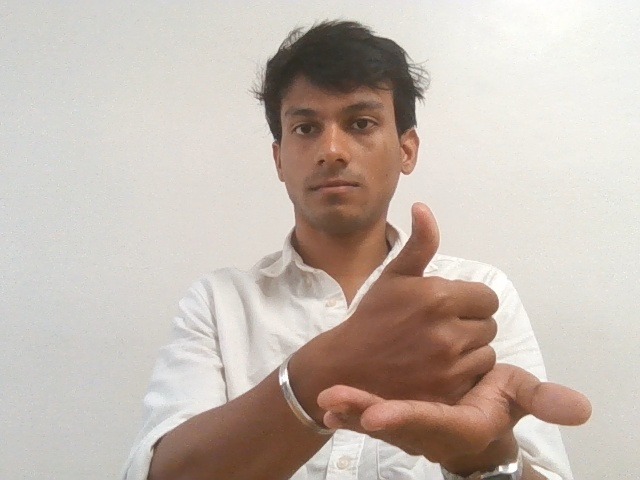Help: (301, 201, 596, 465)
